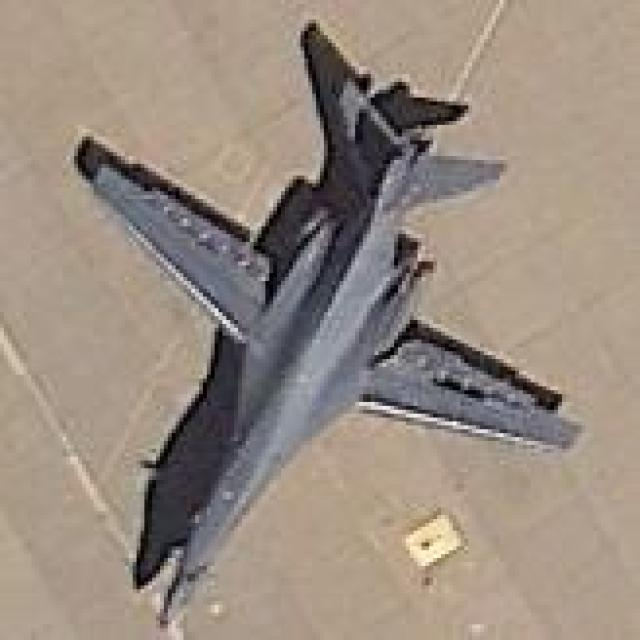B-1_TopDown: (62, 12, 586, 636)
